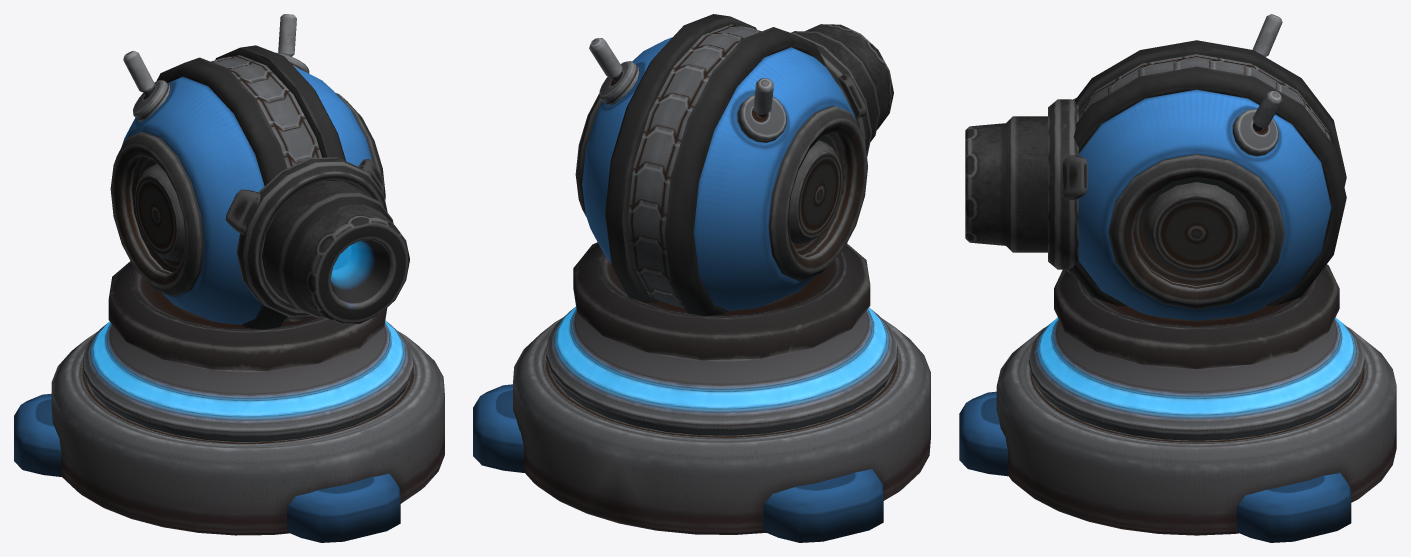
Rendered from Laser_Blue_0.gltf.
3 views of the same model, side by side, from view 1: azimuth 30°, elevation 25°; view 2: azimuth 150°, elevation 25°; view 3: azimuth 270°, elevation 25° (orthographic). The views are drawn at different scales.
Parts seen in each view (by area): view 1: lazer_lvl1_base, lazer_lvl1_main, lazer_lvl1_mid, lazer_lvl1_barrel; view 2: lazer_lvl1_main, lazer_lvl1_base, lazer_lvl1_mid, lazer_lvl1_barrel; view 3: lazer_lvl1_main, lazer_lvl1_base, lazer_lvl1_mid, lazer_lvl1_barrel.
Part boxes in pixels (left/top/right/bottom): lazer_lvl1_base: left=14, top=331, right=444, bottom=542; lazer_lvl1_main: left=110, top=14, right=385, bottom=329; lazer_lvl1_mid: left=82, top=261, right=413, bottom=441; lazer_lvl1_barrel: left=225, top=157, right=409, bottom=324; lazer_lvl1_main: left=575, top=14, right=867, bottom=316; lazer_lvl1_base: left=473, top=317, right=930, bottom=542; lazer_lvl1_mid: left=546, top=242, right=897, bottom=435; lazer_lvl1_barrel: left=790, top=24, right=893, bottom=157; lazer_lvl1_main: left=1070, top=14, right=1346, bottom=320; lazer_lvl1_base: left=959, top=327, right=1396, bottom=542; lazer_lvl1_mid: left=1028, top=264, right=1364, bottom=440; lazer_lvl1_barrel: left=965, top=98, right=1087, bottom=276.
Bounding box in the file's own units: 0.6764 × 0.6743 × 0.6684.
Materials: 1 (1 with a texture image).
